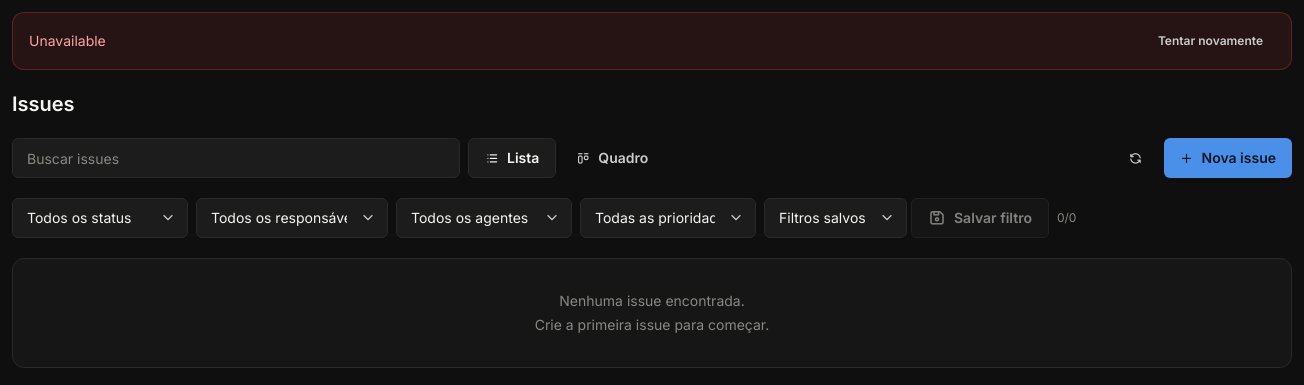
it: WorkView › shows a loading failure and retries the requests
This screenshot has width=1304, height=385.
Expected: the message shows "Unavailable", [29,32,106,49]
Click the button "Tentar novamente".
click(1210, 41)  # box [1146,25,1275,57]
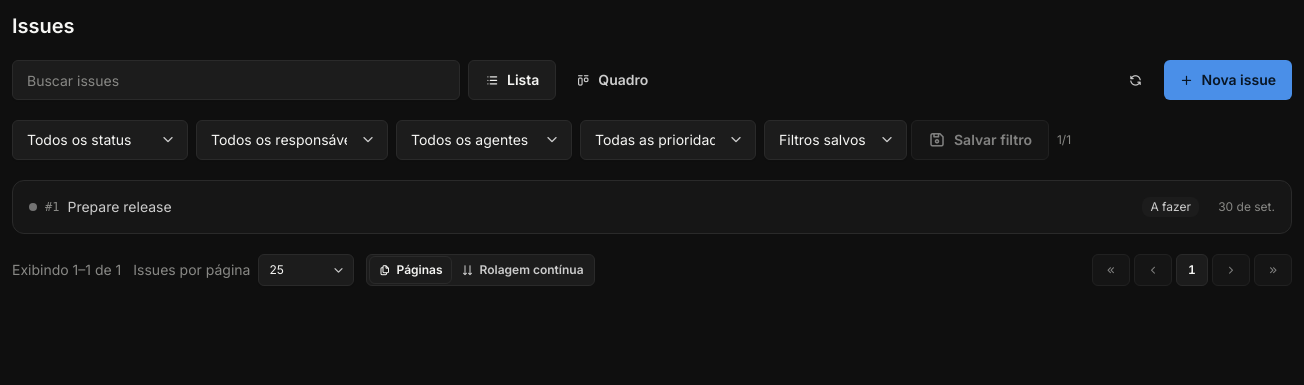
Result: the button "#1 Prepare release" is shown at [29,193,1130,221]
